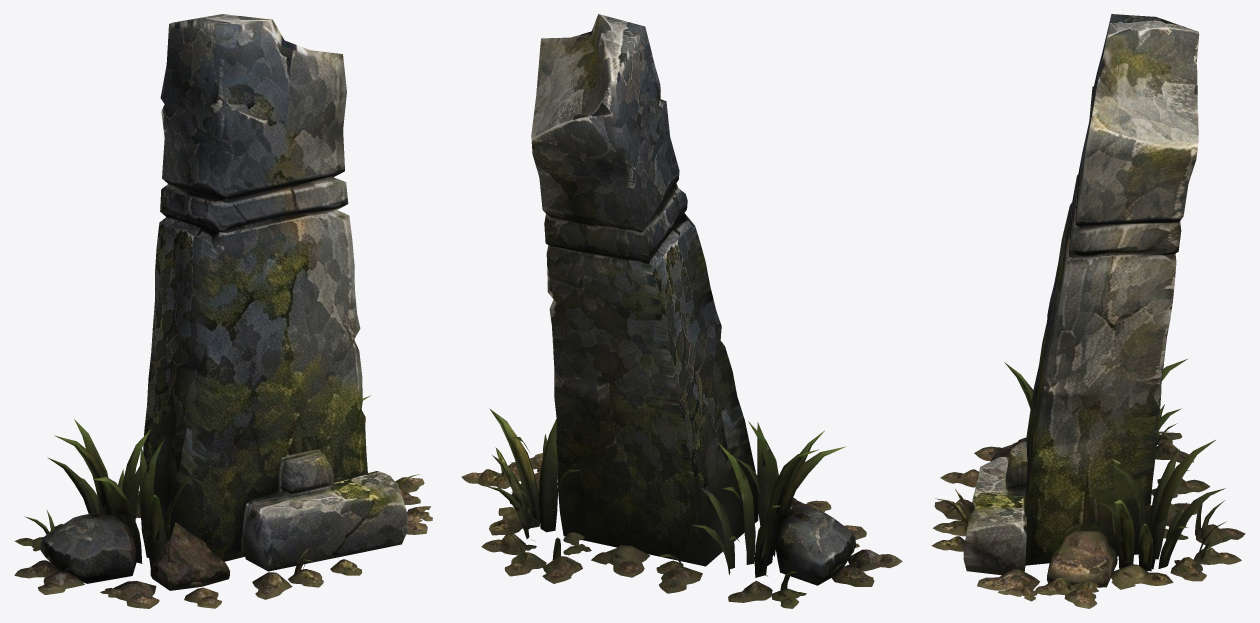
The model's file is act1-a06-2-marker-stone.glb.
The picture shows the model from 3 angles, left to right: view 1: azimuth 30°, elevation 25°; view 2: azimuth 150°, elevation 25°; view 3: azimuth 270°, elevation 25°; orthographic projection. The views are drawn at different scales.
Visible parts, largest first — view 1: act1-a06-2-marker-stone; view 2: act1-a06-2-marker-stone; view 3: act1-a06-2-marker-stone.
Part boxes in pixels (bbox=[...]): act1-a06-2-marker-stone: bbox=[14, 14, 432, 608]; act1-a06-2-marker-stone: bbox=[461, 14, 902, 608]; act1-a06-2-marker-stone: bbox=[931, 14, 1245, 608].
Size of the model in its own units: 2.19 by 2.6 by 1.44.
Materials: 1 (1 with a texture image).
